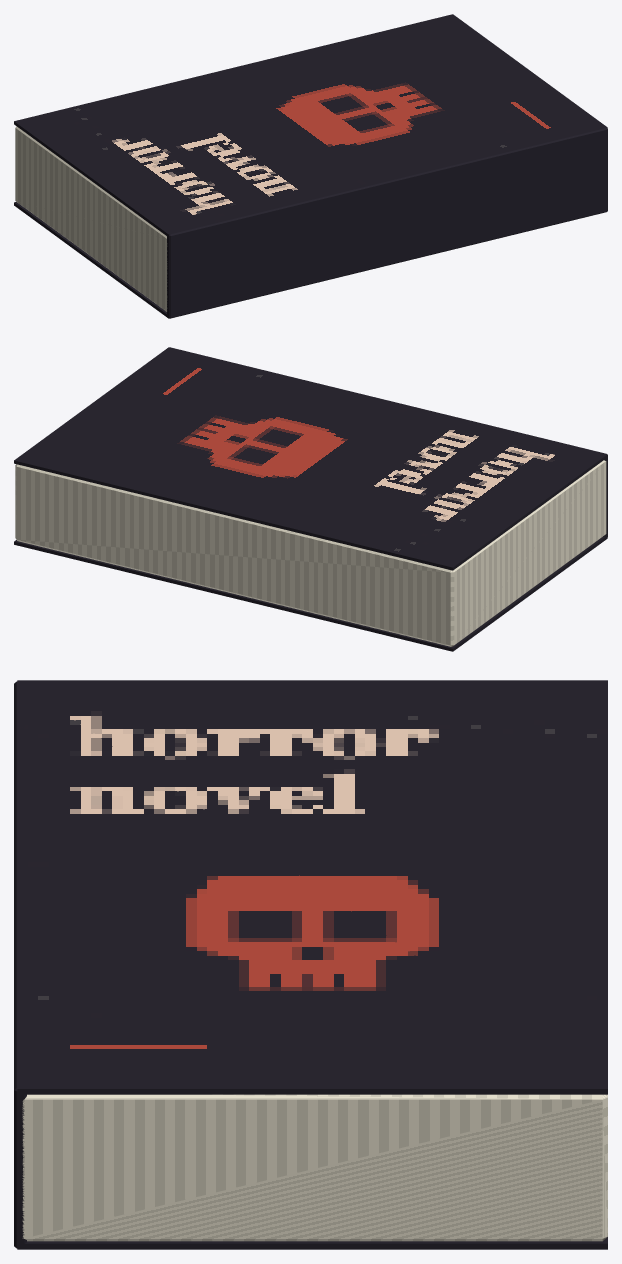
File: novel_horror.glb
3 views of the same model, one above another, from view 1: azimuth 30°, elevation 25°; view 2: azimuth 150°, elevation 25°; view 3: azimuth 270°, elevation 25° (orthographic). The views are drawn at different scales.
Visible parts, largest first — view 1: block_front, block_spine, block_pages, block_back; view 2: block_front, block_pages, block_back, block_spine; view 3: block_front, block_pages, block_spine, block_back.
Part boxes in pixels (left/top/right/bottom): block_front: left=14, top=14, right=607, bottom=237; block_spine: left=167, top=128, right=607, bottom=318; block_pages: left=15, top=126, right=167, bottom=311; block_back: left=14, top=202, right=607, bottom=318; block_front: left=14, top=347, right=607, bottom=570; block_pages: left=15, top=460, right=606, bottom=646; block_back: left=14, top=536, right=607, bottom=651; block_spine: left=168, top=347, right=607, bottom=536; block_front: left=17, top=680, right=607, bottom=1094; block_pages: left=22, top=1094, right=607, bottom=1241; block_spine: left=14, top=681, right=26, bottom=1248; block_back: left=17, top=1237, right=607, bottom=1249.
Bounding box in the file's own units: 0.18 × 0.033 × 0.1106.
Materials: 1 (1 with a texture image).
